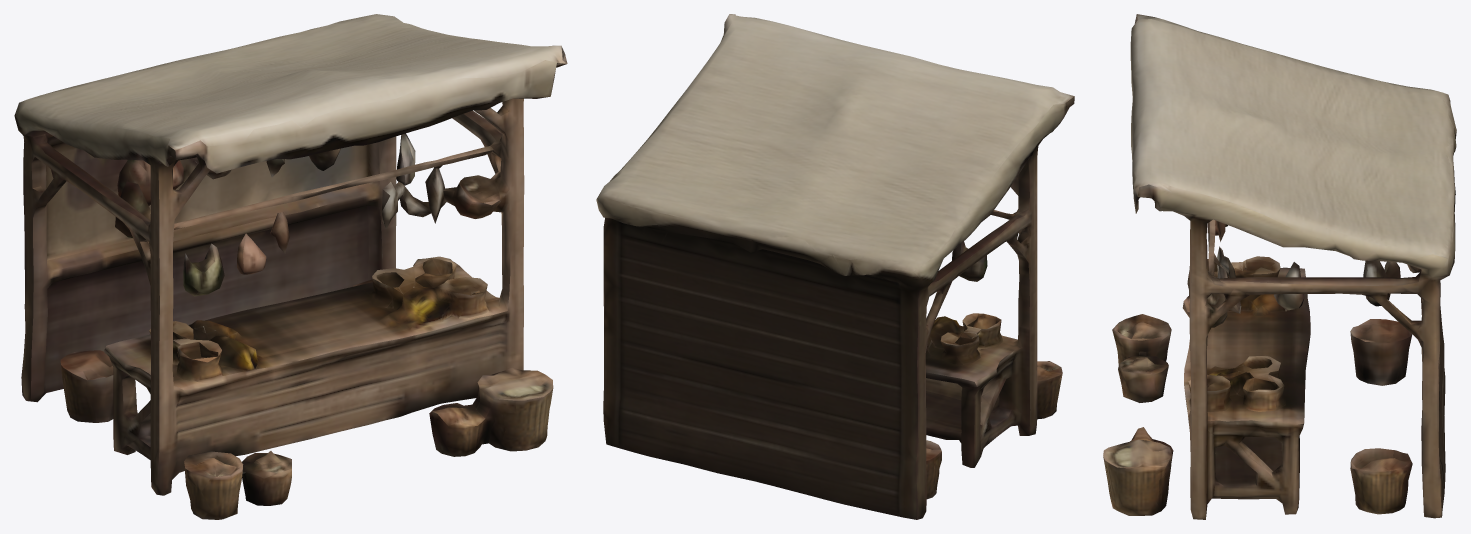
File: market_stall_c.glb
3 views of the same model, side by side, from view 1: azimuth 30°, elevation 25°; view 2: azimuth 150°, elevation 25°; view 3: azimuth 270°, elevation 25° (orthographic). The views are drawn at different scales.
Visible parts, largest first — view 1: MarketStall; view 2: MarketStall; view 3: MarketStall.
Part boxes in pixels (x1=…): MarketStall: x1=14, y1=14, x2=567, y2=519; MarketStall: x1=596, y1=14, x2=1074, y2=519; MarketStall: x1=1103, y1=14, x2=1456, y2=519.
Size of the model in its own units: 2.7 by 2.5 by 2.32.
Materials: 1 (1 with a texture image).
